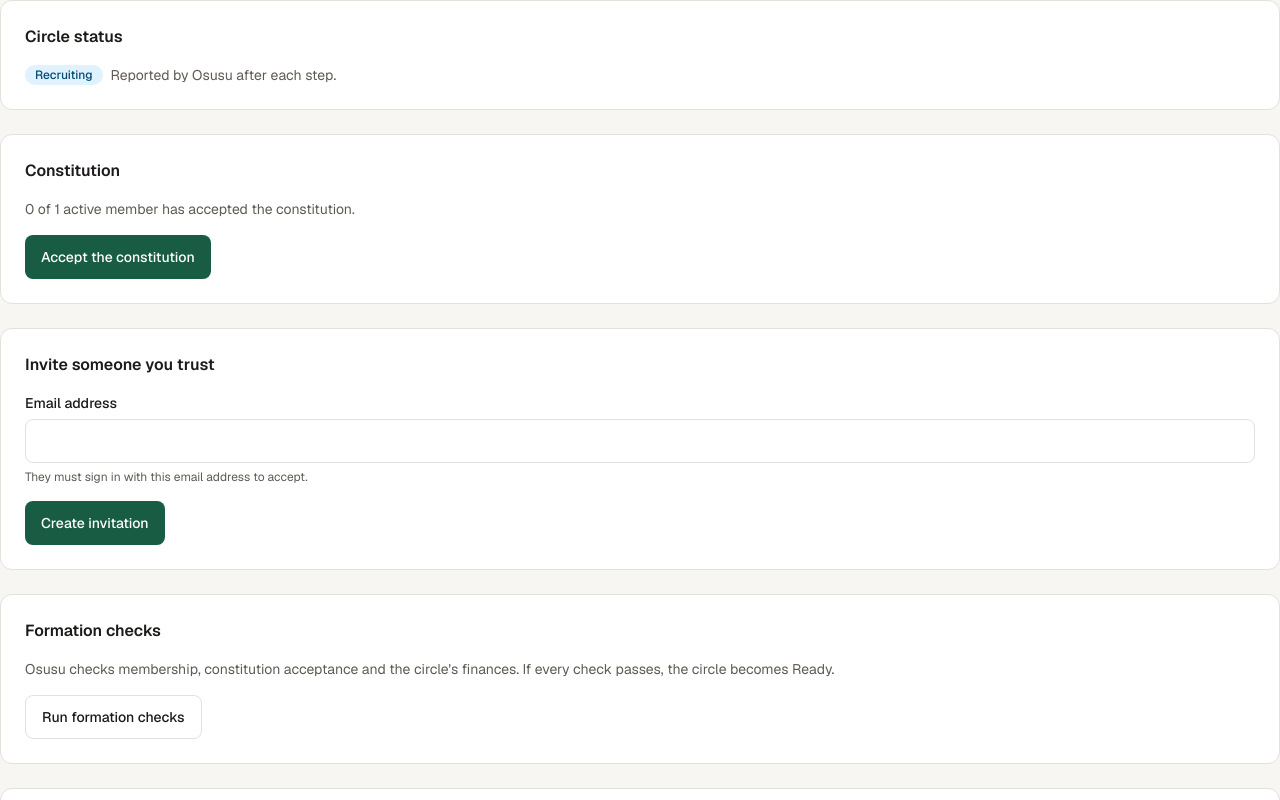
Test case: circle set-up workflow › shows a backend refusal for constitution acceptance
Click the button "Accept the constitution". click: (118,257)
box: x1=25 y1=235 x2=211 y2=279
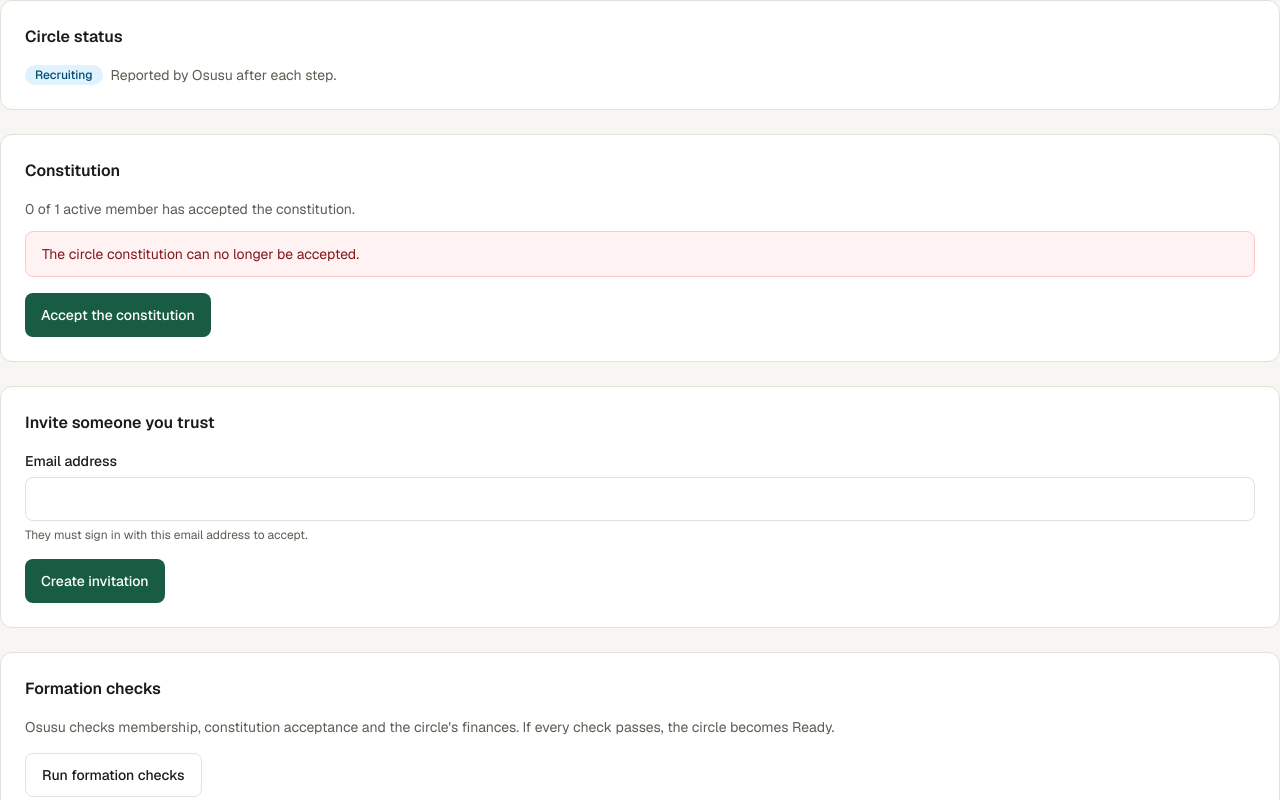
Result: the text "The circle constitution can no longer be accepted." is shown at x1=42 y1=245 x2=359 y2=263
